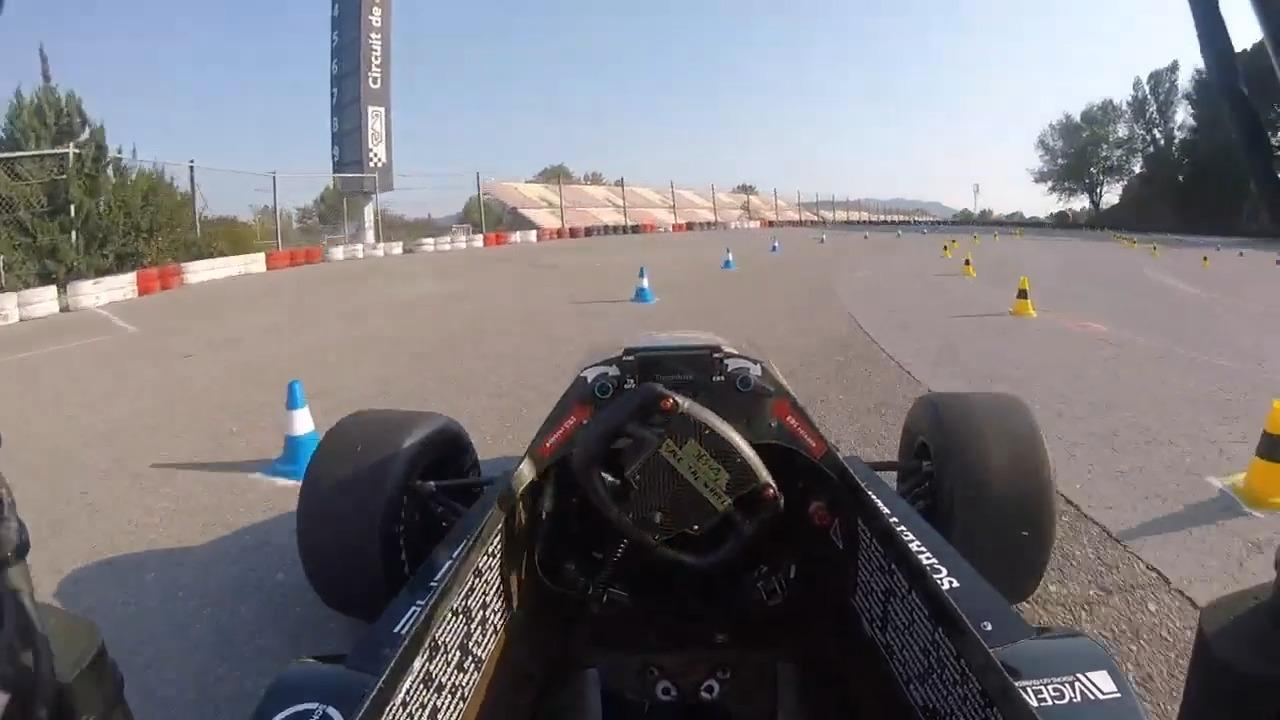blue_cone: (268, 373, 329, 483), (623, 256, 658, 304), (721, 245, 737, 272), (769, 236, 783, 255), (819, 228, 828, 246)
yellow_cone: (1220, 396, 1280, 519), (1008, 275, 1037, 320), (959, 251, 981, 281), (1197, 252, 1211, 270), (950, 236, 961, 255), (941, 244, 950, 263), (1152, 244, 1161, 257), (992, 229, 1000, 243), (972, 232, 979, 246)
